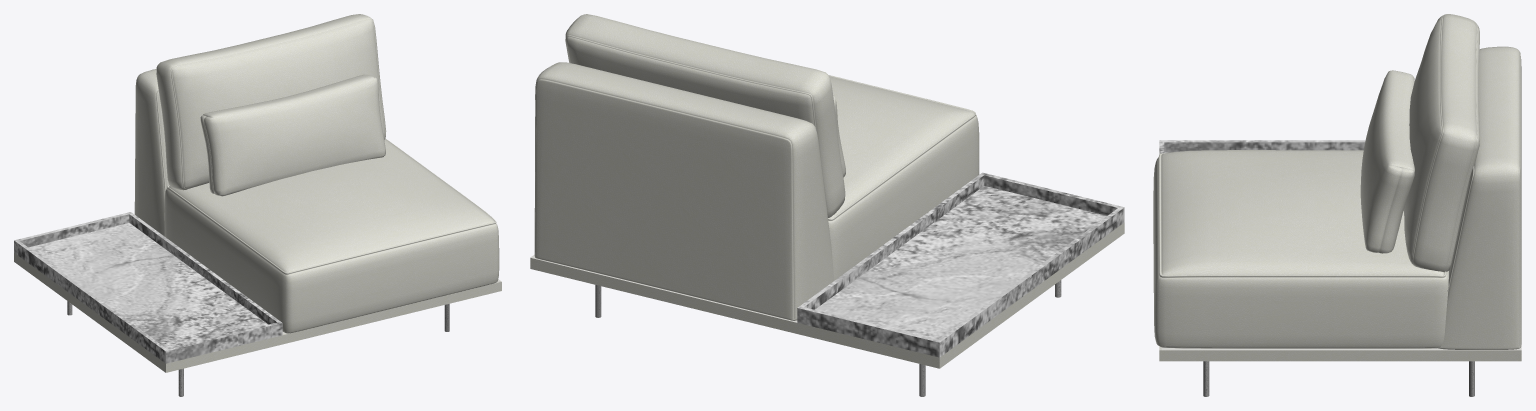
File: single_tray(L).glb
3 renders of one model, left to right at view 1: azimuth 30°, elevation 25°; view 2: azimuth 150°, elevation 25°; view 3: azimuth 270°, elevation 25°, orthographic. The views are drawn at different scales.
Parts seen in each view (by area): view 1: group_5, group_1, instance_0.003, group_2, instance_0.001, instance_0.004, group_4; view 2: group_4, instance_0.003, group_5, group_1, instance_0.001, instance_0.004; view 3: group_5, group_4, group_1, group_2, instance_0.004, instance_0.003, instance_0.011, instance_0.001.
Boxes of the visible parts, <box> form: group_5: <box>164,138,499,333</box>; group_1: <box>156,14,386,190</box>; instance_0.003: <box>20,214,276,348</box>; group_2: <box>200,74,385,196</box>; instance_0.001: <box>14,212,282,363</box>; instance_0.004: <box>14,253,501,372</box>; group_4: <box>134,69,168,236</box>; group_4: <box>534,62,834,320</box>; instance_0.003: <box>804,175,1117,339</box>; group_5: <box>828,75,979,280</box>; group_1: <box>565,14,845,217</box>; instance_0.001: <box>797,172,1124,357</box>; instance_0.004: <box>530,222,1124,368</box>; group_5: <box>1153,150,1448,348</box>; group_4: <box>1437,46,1521,349</box>; group_1: <box>1403,14,1479,272</box>; group_2: <box>1360,70,1414,253</box>; instance_0.004: <box>1159,346,1521,361</box>; instance_0.003: <box>1164,142,1364,152</box>; instance_0.011: <box>1161,345,1521,350</box>; instance_0.001: <box>1159,140,1365,154</box>.
Bounding box in the file's own units: 1.15 × 0.7699 × 0.9152.
Materials: 6 (5 with a texture image).
